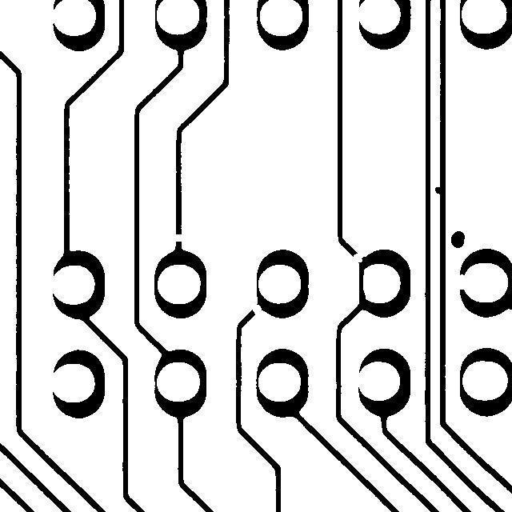copper: (443, 223, 472, 255)
mousebite: (344, 245, 370, 270)
open: (448, 266, 475, 297), (243, 295, 269, 322), (164, 226, 190, 249)
short: (351, 254, 374, 306)
spur: (427, 178, 450, 202)
